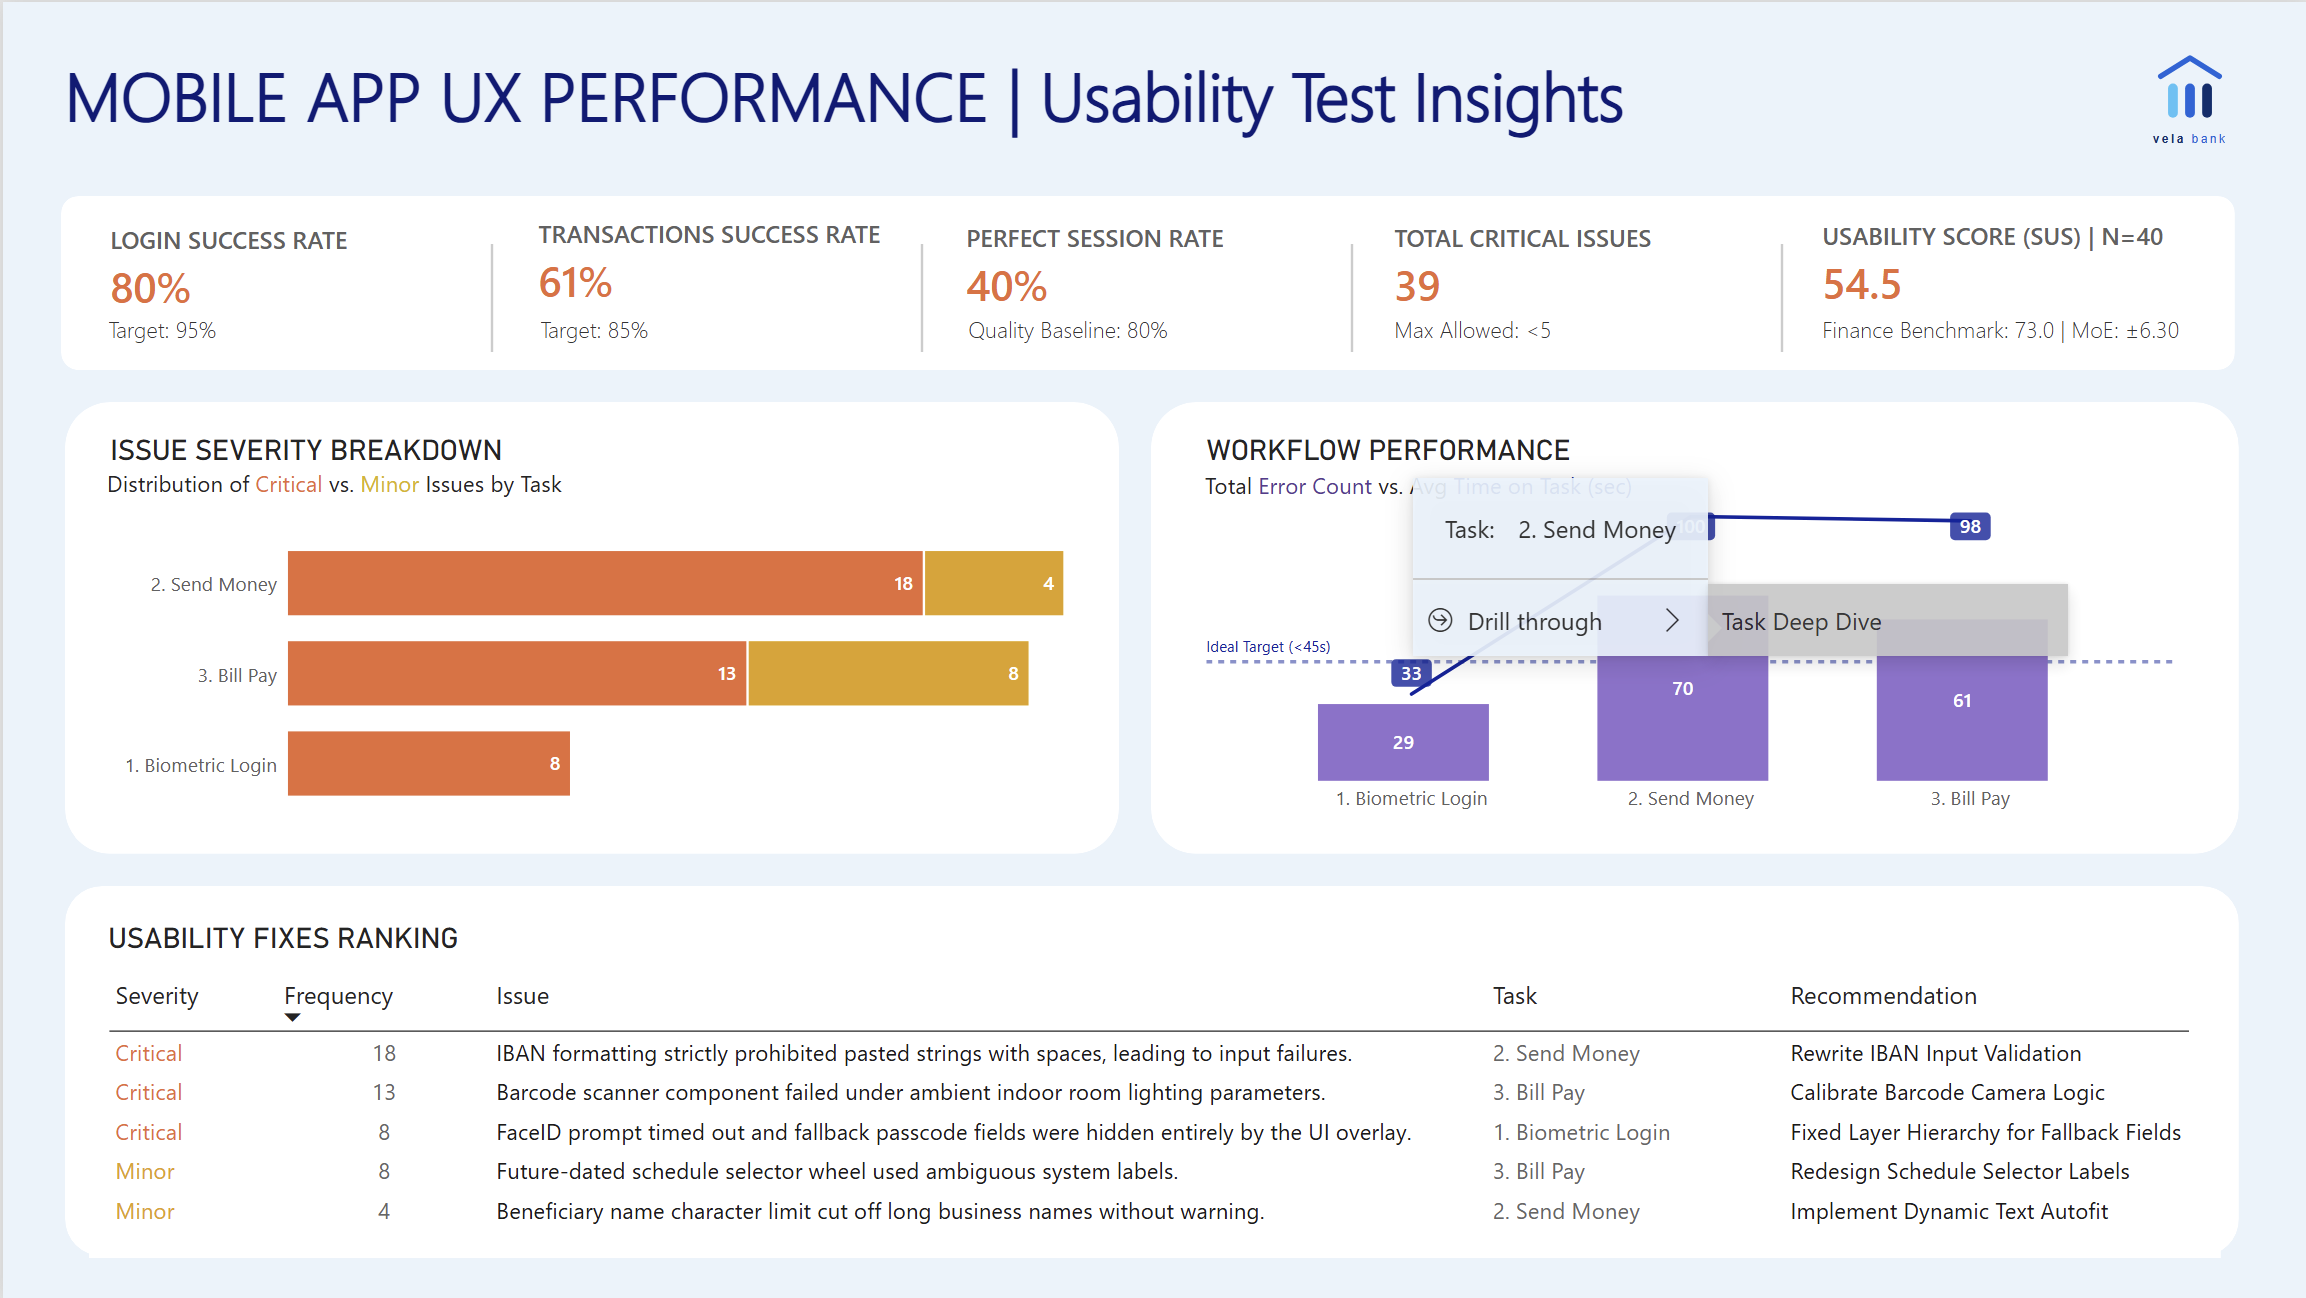

What the dashboard file says about the page in this screenshot:
{"tool":"powerbi","page":{"name":"Executive Summary","canvas":[1920,1080],"ordinal":0},"visuals":[{"type":"textbox","box":[52,38,1732,96],"z":0},{"type":"shape","box":[48.3,161.7,1811.7,145],"z":1000},{"type":"shape","box":[51,334.2,878.3,376.7],"z":2000},{"type":"shape","box":[956,333.3,906.7,376.7],"z":3000},{"type":"shape","box":[51,736.7,1811.7,308.3],"z":3000,"group":"g1"},{"type":"cardVisual","title":"TIME ON TASK","fields":{"Data":["task_performance.login_success_rate"]},"box":[73.2,180.2,326,85],"z":4000},{"type":"cardVisual","title":"TIME ON TASK","fields":{"Data":["task_performance.core_transaction_success_rate"]},"box":[430.2,175,326.7,85],"z":5000},{"type":"cardVisual","title":"TIME ON TASK","fields":{"Data":["task_performance.perfect_session_rate"]},"box":[787,177.6,326,85],"z":6000},{"type":"cardVisual","title":"TIME ON TASK","fields":{"Data":["task_performance.critical_issues_count"]},"box":[1143.2,178.9,326,85],"z":7000},{"type":"barChart","title":"ISSUE SEVERITY BREAKDOWN","fields":{"Category":["tasks.task_name"],"Series":["qualitative_insights.severity"],"Y":["CountNonNull(qualitative_insights.insight_id)"]},"box":[72.7,345,826.7,365],"z":8000},{"type":"lineStackedColumnComboChart","title":"WORKFLOW PERFORMANCE","fields":{"Category":["tasks.task_name"],"Y":["Sum(task_performance.error_count)1"],"Y2":["Avg(task_performance.time_on_task_sec)"]},"box":[986,345,840,350],"z":9000},{"type":"cardVisual","title":"TIME ON TASK","fields":{"Data":["SUS_scores.SUS Display"]},"box":[1499.3,176.3,326,85],"z":10000},{"type":"cardVisual","fields":{"Data":["task_performance.target_login"]},"box":[71.8,246.7,326,50],"z":11000},{"type":"tableEx","title":"USABILITY FIXES RANKING","fields":{"Values":["qualitative_insights.severity","CountNonNull(qualitative_insights.issue_description)","qualitative_insights.issue_description","qualitative_insights.task_name","recommendations.recommendation"]},"box":[71,752.3,1776.7,295],"z":11000,"group":"g1"},{"type":"cardVisual","fields":{"Data":["task_performance.target_transactions"]},"box":[431,246.7,326,50],"z":12000},{"type":"shape","box":[1426.7,853.4,381,34.9],"z":12000,"group":"g1"},{"type":"cardVisual","fields":{"Data":["task_performance.target_session"]},"box":[787.7,246.7,326,50],"z":13000},{"type":"shape","box":[1427,896.4,380.4,25.5],"z":13000,"group":"g1"},{"type":"cardVisual","fields":{"Data":["task_performance.target_SUS"]},"box":[1499.3,246.7,340,50],"z":14000},{"type":"shape","box":[1427,921.9,380.4,25.5],"z":14000,"group":"g1"},{"type":"shape","box":[364.3,201.7,85,90],"z":15000},{"type":"shape","box":[1426.7,958.2,381,31.7],"z":15000,"group":"g1"},{"type":"shape","box":[722.7,201.7,85,90],"z":16000},{"type":"shape","box":[1426.7,990,381,34.9],"z":16000,"group":"g1"},{"type":"shape","box":[1081,201.7,85,90],"z":17000},{"type":"shape","box":[1439.3,201.7,85,90],"z":18000},{"type":"textbox","box":[87,388.3,511.6,40],"z":19000},{"type":"textbox","box":[1002,390.3,511.6,40],"z":20000},{"type":"cardVisual","fields":{"Data":["task_performance.target_issues"]},"box":[1142.7,246.7,326,50],"z":21000},{"type":"image","box":[1760,34,125,95],"z":22000},{"type":"group","id":"g1","title":"Group 1","box":[51,736.7,1811.7,310.6],"z":23000},{"type":"textbox","box":[53,686.2,878,359],"z":24000}]}

Visuals, with their boxes in screenshot pixels (x1, y1, x2, y2), scaled from the page's 1920x1080 canvas onto the 2306x1298 screenshot:
textbox: [62,46,2143,161]
shape: [58,194,2234,369]
shape: [61,402,1116,854]
shape: [1148,401,2237,853]
shape: [61,885,2237,1256]
"TIME ON TASK" cardVisual: [88,217,479,319]
"TIME ON TASK" cardVisual: [517,210,909,312]
"TIME ON TASK" cardVisual: [945,213,1337,316]
"TIME ON TASK" cardVisual: [1373,215,1765,317]
"ISSUE SEVERITY BREAKDOWN" barChart: [87,415,1080,853]
"WORKFLOW PERFORMANCE" lineStackedColumnComboChart: [1184,415,2193,835]
"TIME ON TASK" cardVisual: [1801,212,2192,314]
cardVisual - task_performance.target_login: [86,296,478,357]
"USABILITY FIXES RANKING" tableEx: [85,904,2219,1259]
cardVisual - task_performance.target_transactions: [518,296,909,357]
shape: [1714,1026,2171,1068]
cardVisual - task_performance.target_session: [946,296,1338,357]
shape: [1714,1077,2171,1108]
cardVisual - task_performance.target_SUS: [1801,296,2209,357]
shape: [1714,1108,2171,1139]
shape: [438,242,540,351]
shape: [1714,1152,2171,1190]
shape: [868,242,970,351]
shape: [1714,1190,2171,1232]
shape: [1298,242,1400,351]
shape: [1729,242,1831,351]
textbox: [104,467,719,515]
textbox: [1203,469,1818,517]
cardVisual - task_performance.target_issues: [1372,296,1764,357]
image: [2114,41,2264,155]
"Group 1" group: [61,885,2237,1259]
textbox: [64,825,1118,1256]
